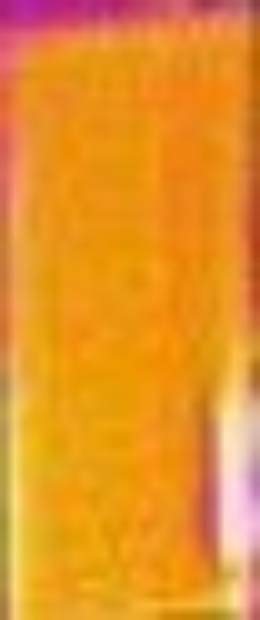Diode: (200, 347, 260, 581)
